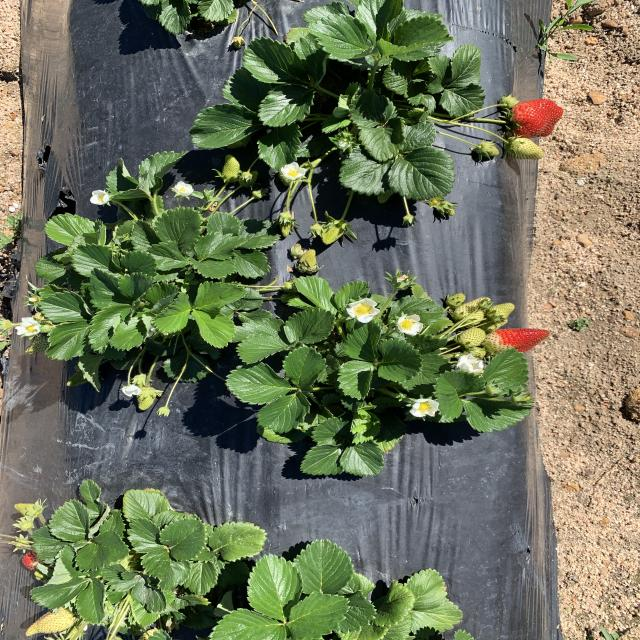unripe: (506, 95, 567, 140), (479, 319, 551, 357), (21, 547, 62, 572)
